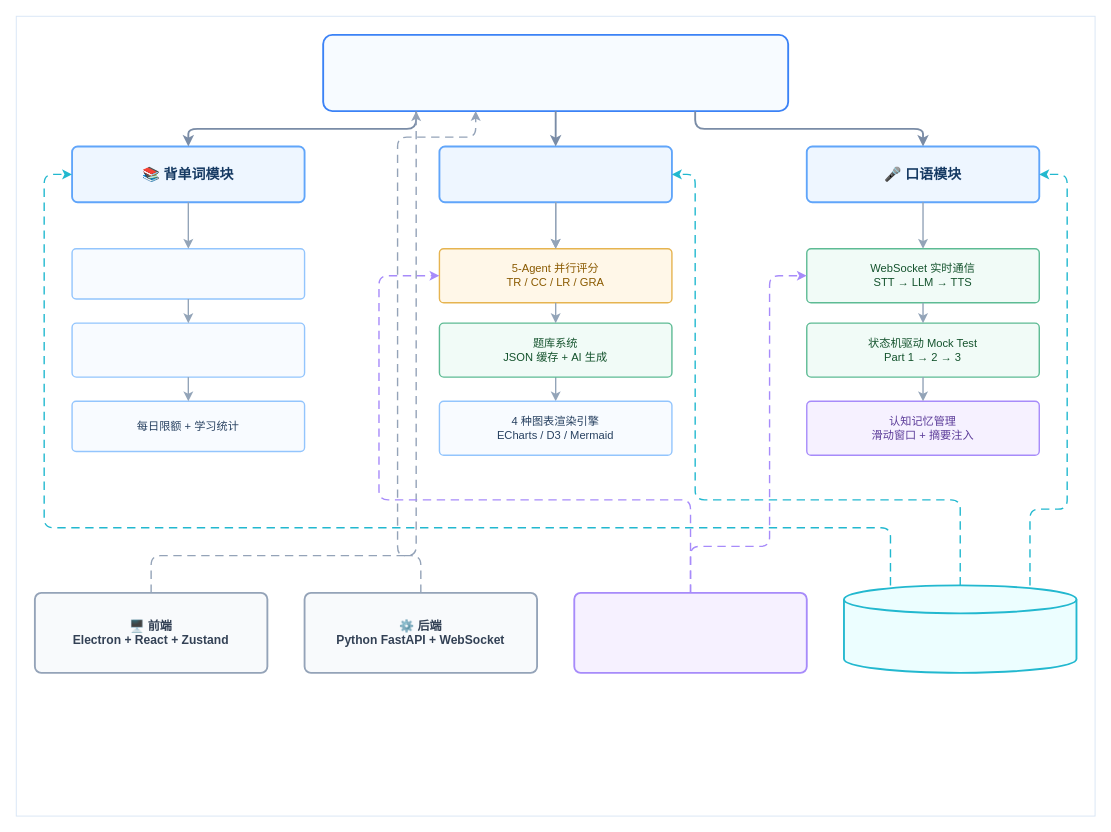
Image size: 1111x832. Some labels were removed from this diagram. The shapes that lost their labels are listed below. From the top down, each one's centre as x and y in pixels, then its label:
[555,72]: 📘 IELTS-mate AI 驱动的雅思备考助手
[555,174]: ✍️ 写作模块
[188,273]: SM-2 间隔重复算法
[188,349]: 4 种学习模式 学习 / 复习 / 拼写 / 听写
[690,632]: 🤖 AI 服务 LLM+TTS+STT
[960,628]: 💾 SQLite 本地数据库
